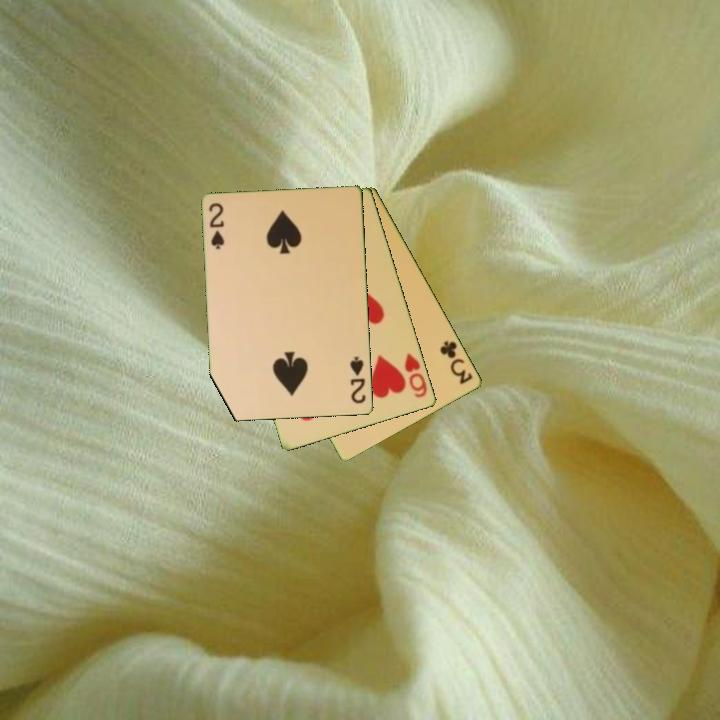2s: (347, 353, 368, 407), (206, 200, 227, 252)
3c: (437, 337, 476, 387)
6h: (401, 350, 430, 401)
